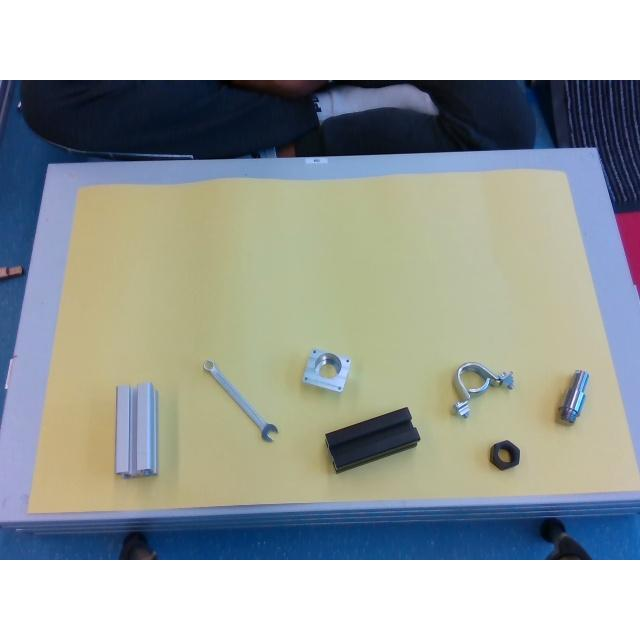Axis2: (558, 370, 590, 422)
Housing: (452, 361, 516, 417)
M20: (490, 440, 520, 470)
S40_40_B: (324, 408, 420, 472)
S40_40_G: (115, 382, 157, 476)
